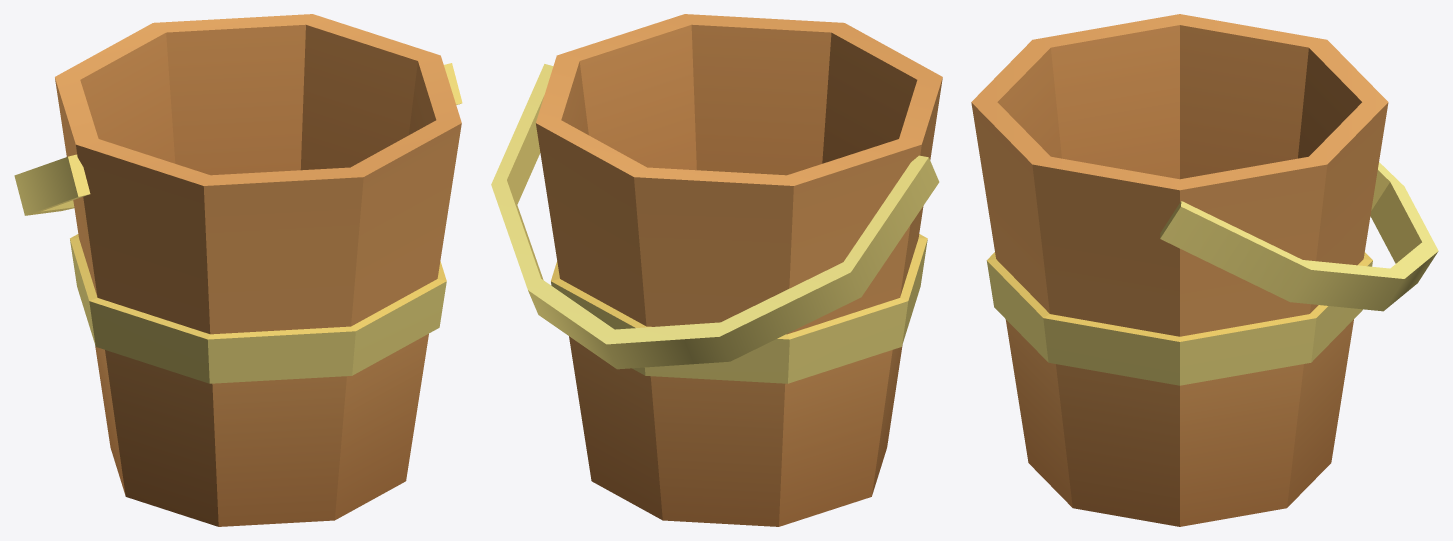
The model's file is bucket.FBX.
3 views of the same model, side by side, from view 1: azimuth 30°, elevation 25°; view 2: azimuth 150°, elevation 25°; view 3: azimuth 270°, elevation 25° (orthographic).
Parts seen in each view (by area): view 1: Cylinder001; view 2: Cylinder001; view 3: Cylinder001.
Part boxes in pixels (x1=…): Cylinder001: x1=14, y1=14, x2=462, y2=526; Cylinder001: x1=491, y1=14, x2=942, y2=526; Cylinder001: x1=971, y1=14, x2=1438, y2=526.
Size of the model in its own units: 67.76 by 61.42 by 72.1.
